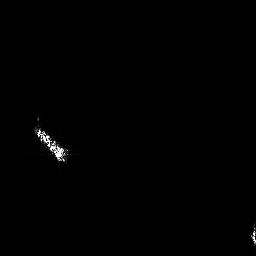ship: (32, 116, 71, 165)
